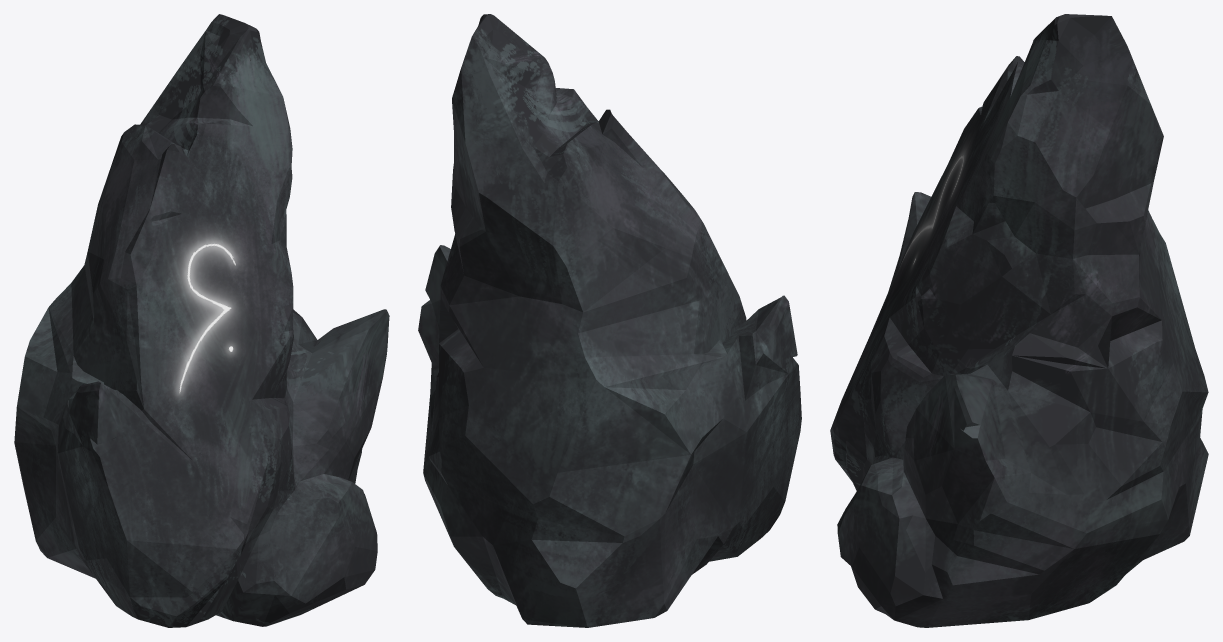
Rendered from fantasy_rock_model.glb.
3 views of the same model, side by side, from view 1: azimuth 30°, elevation 25°; view 2: azimuth 150°, elevation 25°; view 3: azimuth 270°, elevation 25° (orthographic). The views are drawn at different scales.
Visible parts, largest first — view 1: polySurface2; view 2: polySurface2; view 3: polySurface2.
Part boxes in pixels (x1,y1,x2,y2): polySurface2: (14, 14, 389, 627); polySurface2: (418, 14, 801, 627); polySurface2: (830, 14, 1208, 627).
Size of the model in its own units: 0.0307 by 0.0484 by 0.0275.
Materials: 1 (1 with a texture image).
